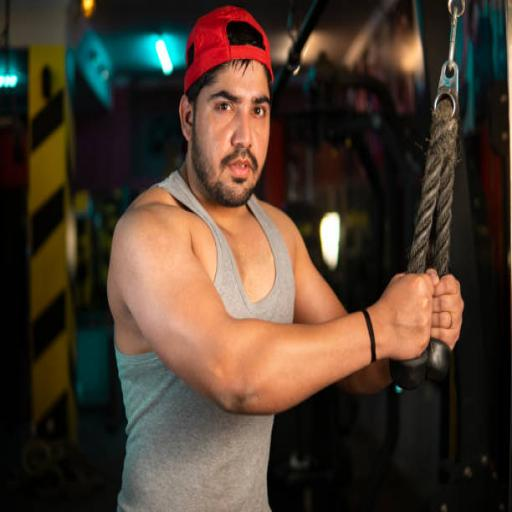Person: (86, 76, 456, 442)
no_gloves: (366, 260, 426, 336), (420, 258, 462, 322)
no_goggle: (198, 137, 270, 170)
none: (106, 203, 304, 439)
